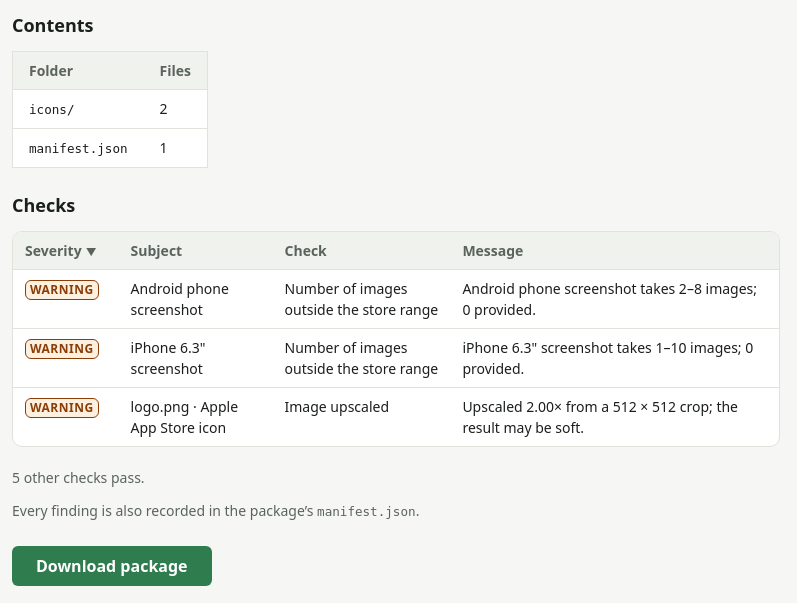
PackagePanel › reports a non-Error build failure
This screenshot has width=797, height=603.
Click the button "Download package" at point(112, 566), box [12, 546, 212, 586]
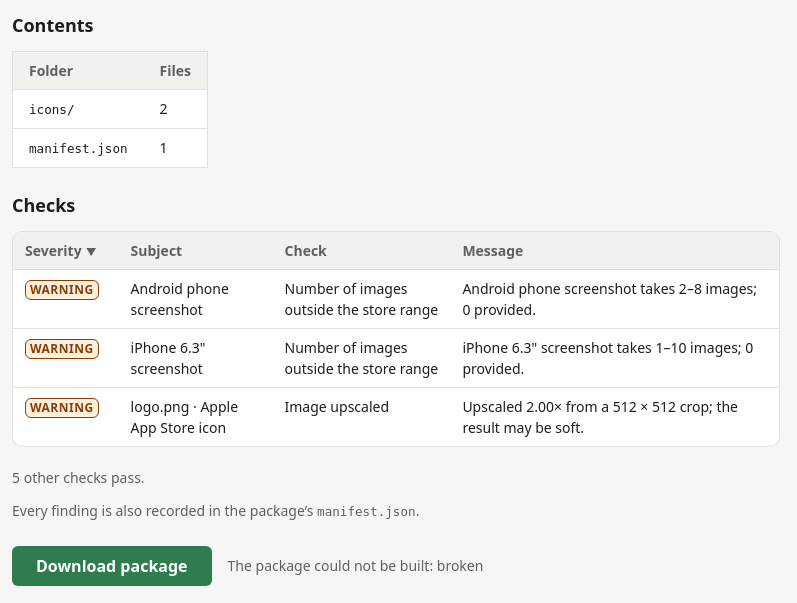
Expected: the text "The package could not be built: broken" is shown, [228, 555, 483, 576]
